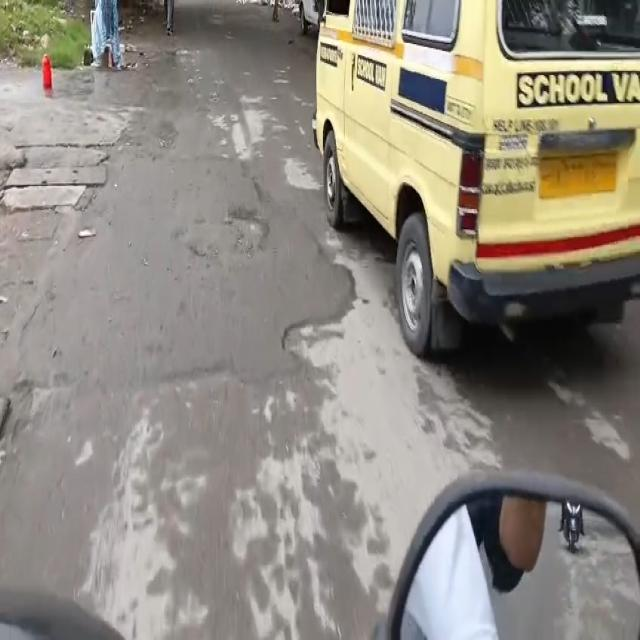road-pothole: (188, 209, 269, 266)
